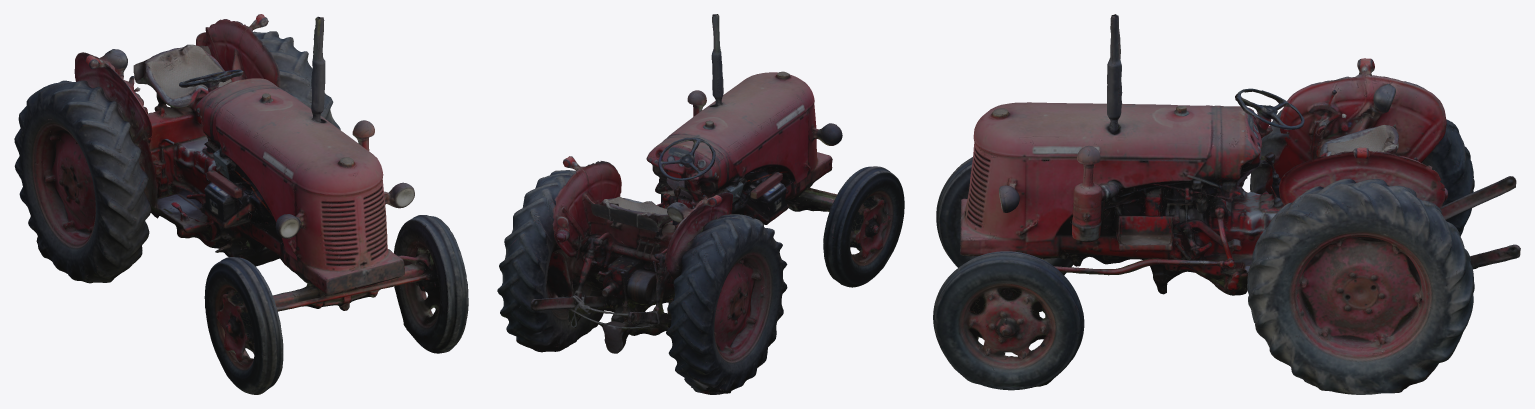
File: david_brown_25d_tractor.glb
3 views of the same model, side by side, from view 1: azimuth 30°, elevation 25°; view 2: azimuth 150°, elevation 25°; view 3: azimuth 270°, elevation 25° (orthographic). The views are drawn at different scales.
Visible parts, largest first — view 1: Object_2, Object_3; view 2: Object_2, Object_3; view 3: Object_2, Object_3.
Boxes of the visible parts, box(x1,y1,x2,y2) form: Object_2: box(14, 19, 468, 394); Object_3: box(54, 14, 414, 313); Object_2: box(497, 16, 904, 394); Object_3: box(516, 14, 884, 387); Object_2: box(933, 16, 1520, 392); Object_3: box(970, 14, 1494, 394).
Bounding box in the file's own units: 10.79 × 13.39 × 20.9.
Materials: 1 (1 with a texture image).
